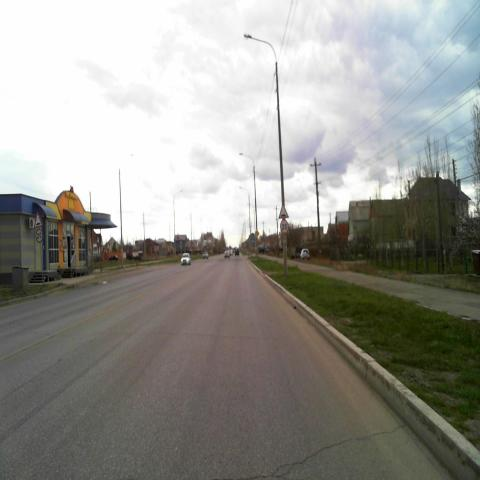1_17: (34, 212, 42, 228)
